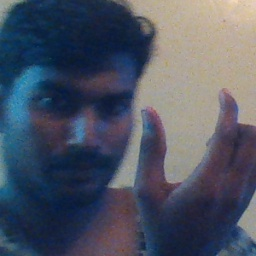U: (134, 86, 256, 252)
